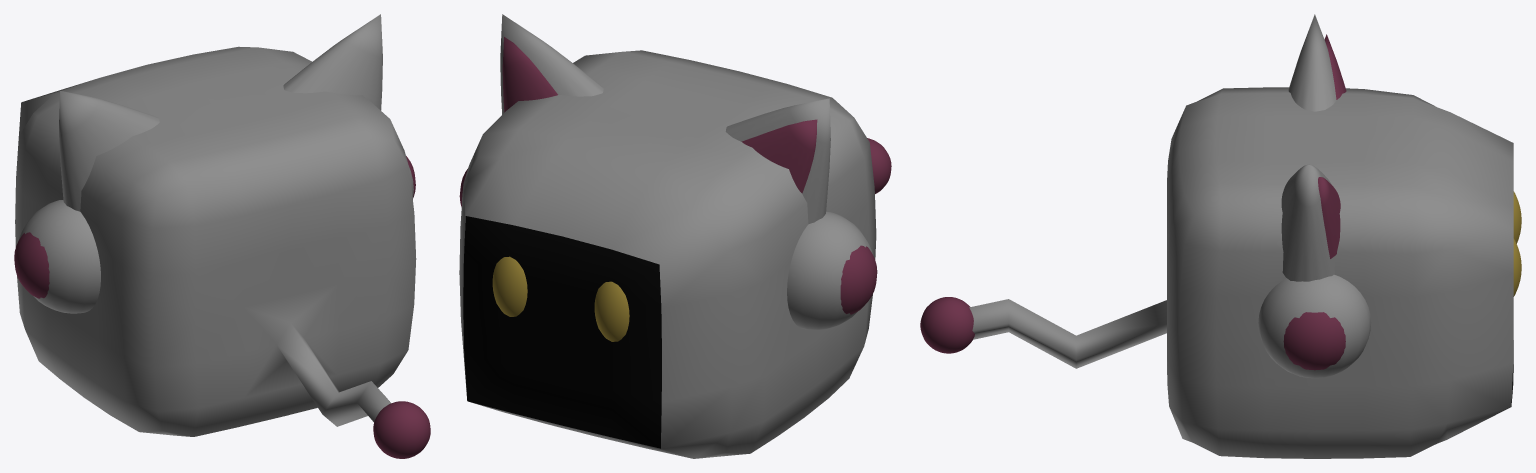
File: Avatar_Eva.dae
3 views of the same model, side by side, from view 1: azimuth 30°, elevation 25°; view 2: azimuth 150°, elevation 25°; view 3: azimuth 270°, elevation 25° (orthographic). The views are drawn at different scales.
Parts seen in each view (by area): view 1: eva; view 2: eva; view 3: eva.
Boxes of the visible parts, left/top/right/bottom form: eva: left=14, top=14, right=430, bottom=458; eva: left=459, top=14, right=891, bottom=458; eva: left=920, top=14, right=1521, bottom=458.
Size of the model in its own units: 1.5 by 1.19 by 2.03.
